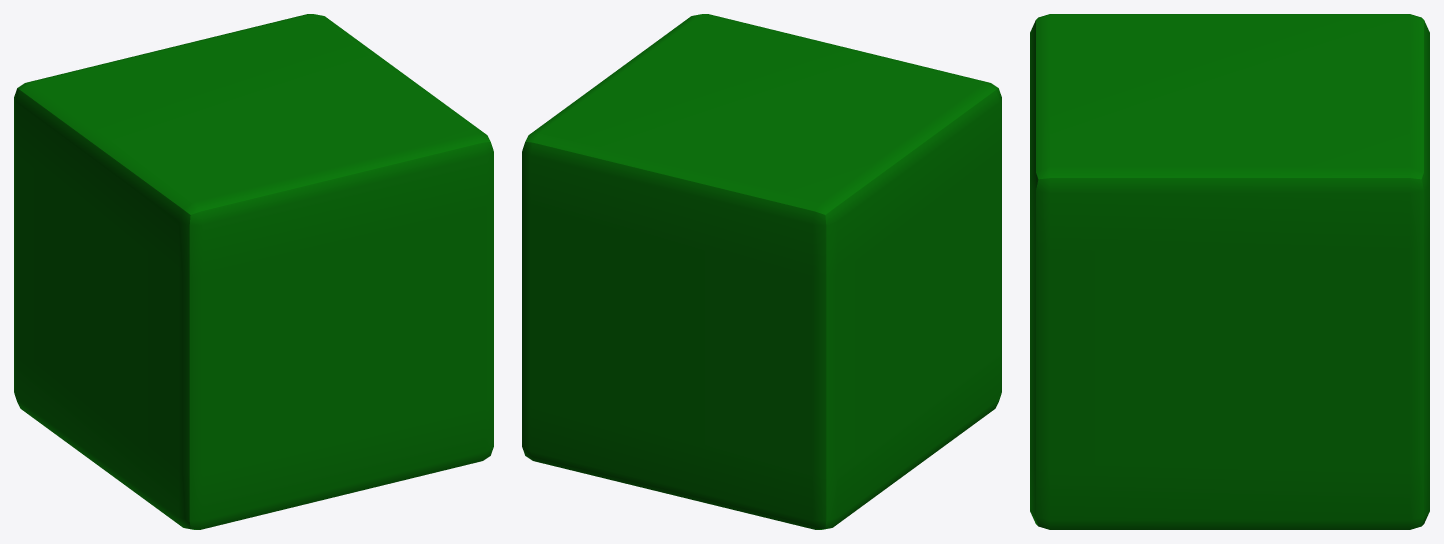
The model's file is platform_1.fbx.
3 views of the same model, side by side, from view 1: azimuth 30°, elevation 25°; view 2: azimuth 150°, elevation 25°; view 3: azimuth 270°, elevation 25° (orthographic). The views are drawn at different scales.
Parts seen in each view (by area): view 1: pCube19; view 2: pCube19; view 3: pCube19.
Part boxes in pixels (bbox=[...]): pCube19: bbox=[14, 14, 493, 529]; pCube19: bbox=[522, 14, 1001, 529]; pCube19: bbox=[1030, 14, 1429, 529].
Size of the model in its own units: 1 by 1 by 1.
